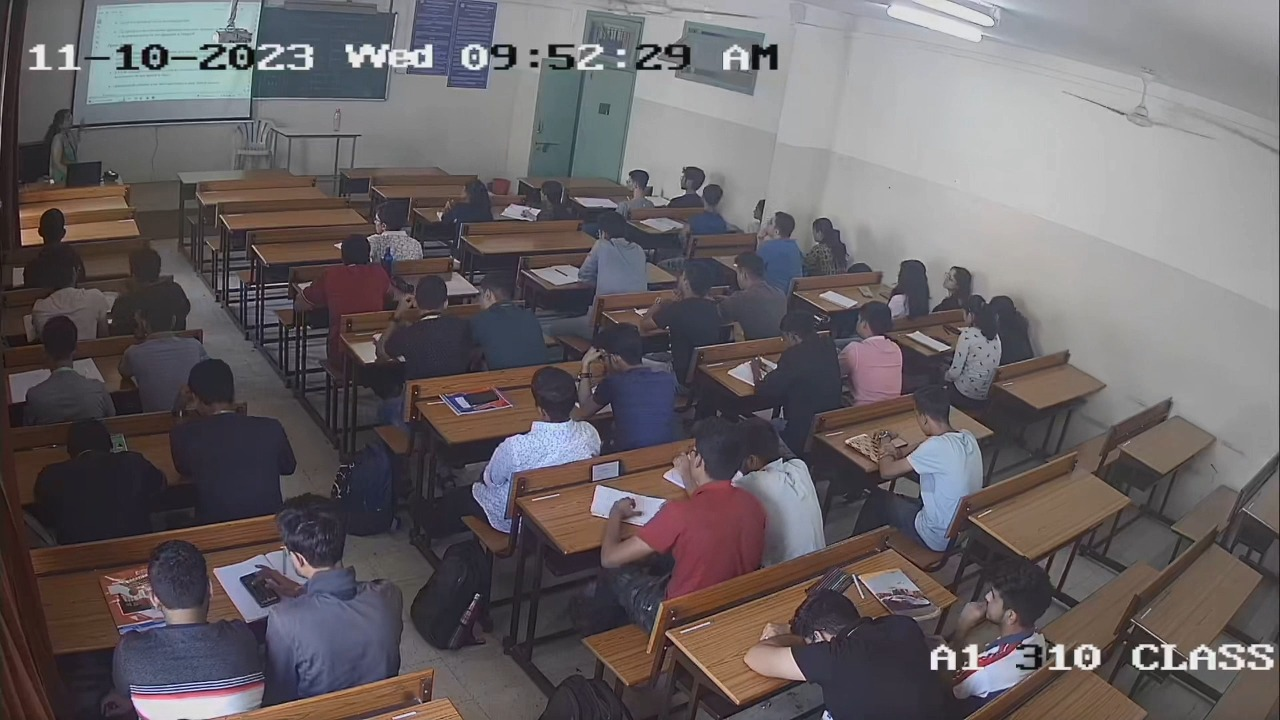cell-phones: (239, 570, 281, 608), (589, 458, 621, 483), (463, 389, 500, 406), (883, 436, 909, 449)
person: (263, 491, 404, 702), (643, 416, 767, 609), (493, 365, 603, 493), (889, 385, 983, 515)
